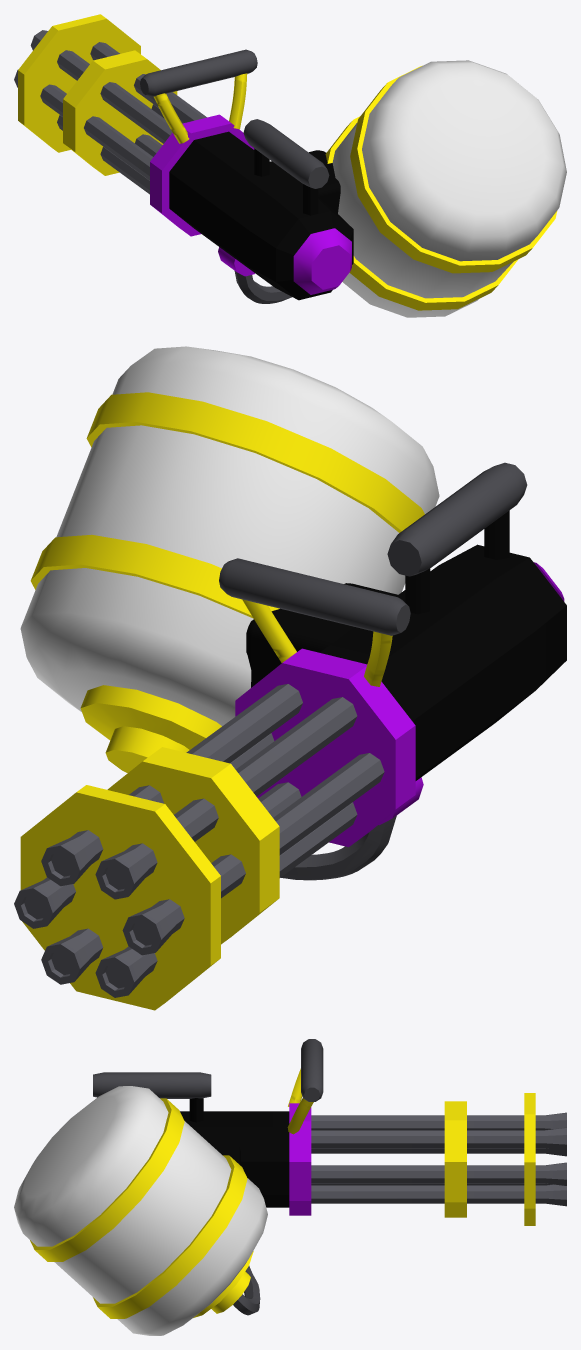
Rendered from W_Minigun.fbx.
The picture shows the model from 3 angles, top to bottom: view 1: azimuth 30°, elevation 25°; view 2: azimuth 150°, elevation 25°; view 3: azimuth 270°, elevation 25°; orthographic projection. The views are drawn at different scales.
Parts seen in each view (by area): view 1: Minigun_Body, Minigun_Barrels; view 2: Minigun_Body, Minigun_Barrels; view 3: Minigun_Body, Minigun_Barrels.
Boxes of the visible parts, x1,y1,x2,y2 form: Minigun_Body: [140, 49, 566, 317]; Minigun_Barrels: [14, 14, 206, 194]; Minigun_Body: [20, 346, 566, 880]; Minigun_Barrels: [14, 684, 384, 1010]; Minigun_Body: [14, 1039, 323, 1335]; Minigun_Barrels: [311, 1093, 566, 1225].
Size of the model in its own units: 0.8533 by 0.6952 by 1.49.
